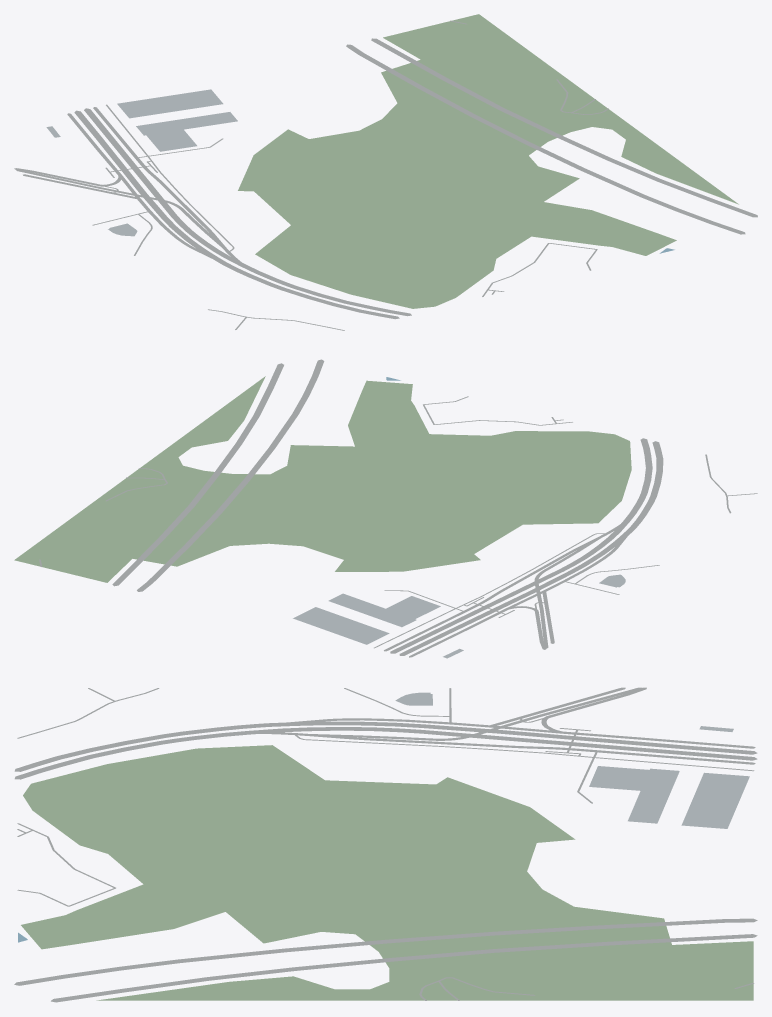
Rendered from -21_13-known-coarse.glb.
3 views of the same model, one above another, from view 1: azimuth 30°, elevation 25°; view 2: azimuth 150°, elevation 25°; view 3: azimuth 270°, elevation 25° (orthographic). The views are drawn at different scales.
Size of the model in its own units: 1008 by 0.15 by 1006.
